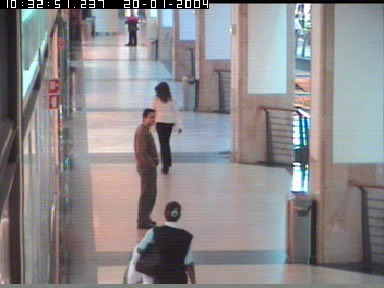person: (122, 200, 195, 284), (147, 79, 183, 174), (133, 108, 158, 230), (124, 13, 140, 46)
